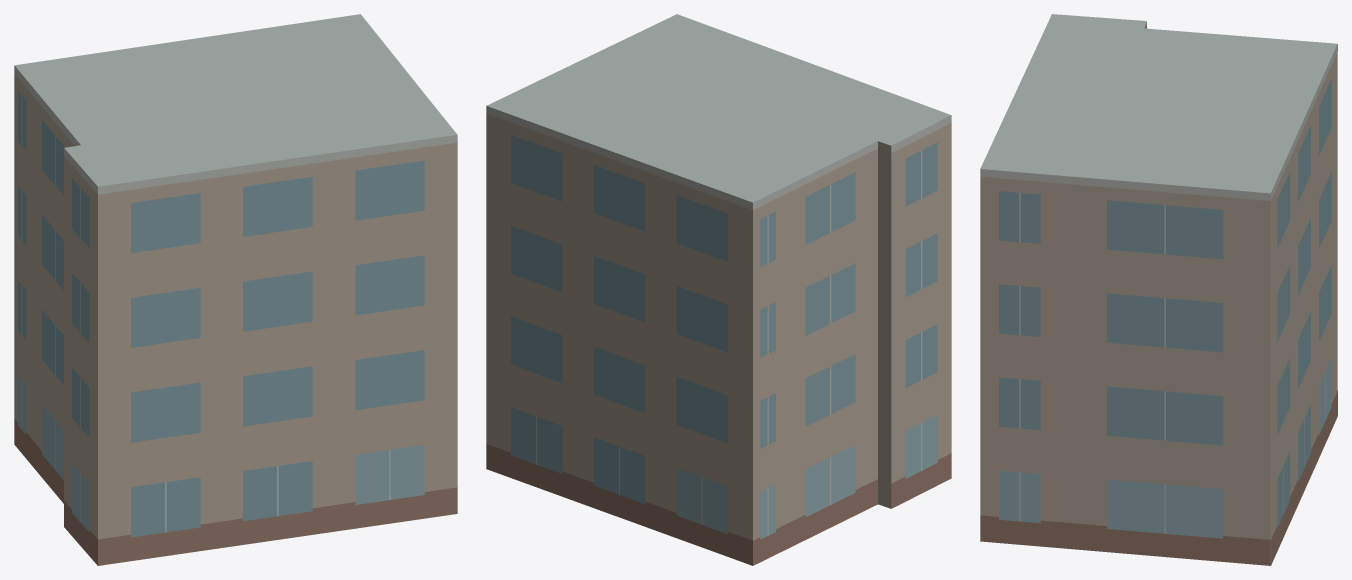
File: survey-upis-33010166.glb
The picture shows the model from 3 angles, left to right: view 1: azimuth 30°, elevation 25°; view 2: azimuth 150°, elevation 25°; view 3: azimuth 270°, elevation 25°; orthographic projection. The views are drawn at different scales.
Visible parts, largest first — view 1: survey-upis-33010166.tmp; view 2: survey-upis-33010166.tmp; view 3: survey-upis-33010166.tmp.
Boxes of the visible parts, box(x1,y1,x2,y2) form: survey-upis-33010166.tmp: box(14, 14, 457, 565); survey-upis-33010166.tmp: box(486, 14, 951, 565); survey-upis-33010166.tmp: box(980, 14, 1337, 565).
Size of the model in its own units: 12.2 by 11.8 by 10.28.
